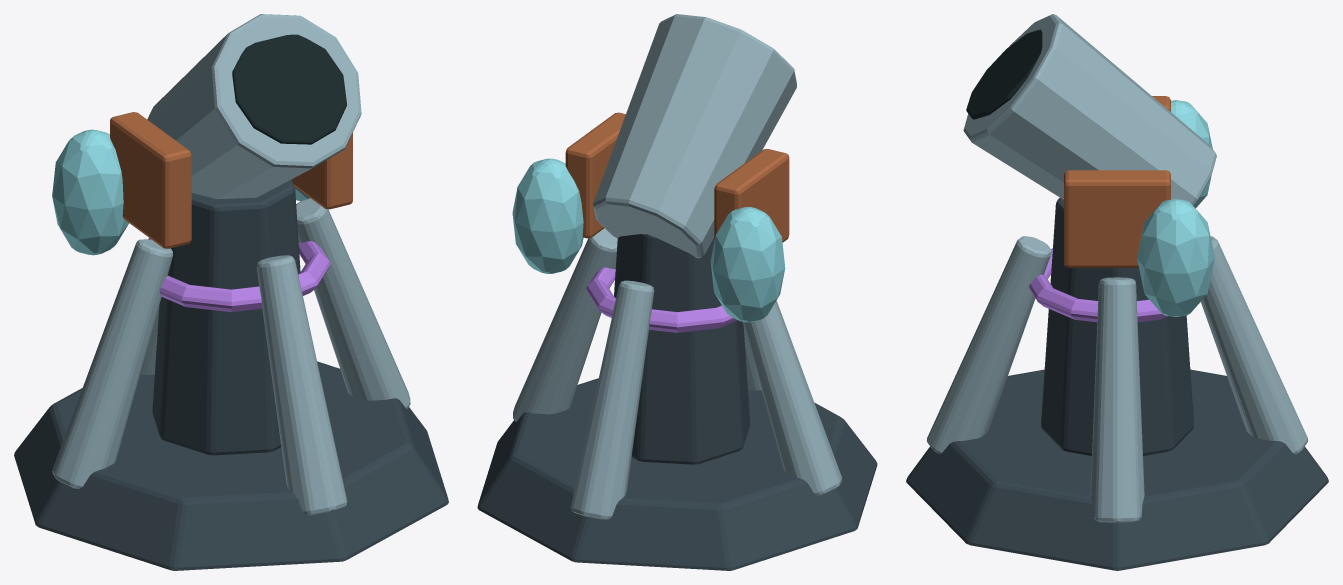
The model's file is frostmortar.glb.
3 views of the same model, side by side, from view 1: azimuth 30°, elevation 25°; view 2: azimuth 150°, elevation 25°; view 3: azimuth 270°, elevation 25° (orthographic). The views are drawn at different scales.
Parts seen in each view (by area): view 1: OctagonalPlinth.001, Buttress.001, MortarBarrel, Trunnion, DarkBore, FrostReservoir, AetherBelt; view 2: OctagonalPlinth.001, MortarBarrel, Buttress.001, FrostReservoir, Trunnion, AetherBelt; view 3: OctagonalPlinth.001, Buttress.001, MortarBarrel, Trunnion, FrostReservoir, DarkBore, AetherBelt.
Boxes of the visible parts, x1,y1,x2,y2 form: OctagonalPlinth.001: [14, 179, 448, 570]; Buttress.001: [52, 198, 410, 515]; MortarBarrel: [147, 14, 361, 199]; Trunnion: [110, 112, 352, 248]; DarkBore: [232, 34, 346, 144]; FrostReservoir: [52, 129, 310, 255]; AetherBelt: [148, 238, 330, 312]; OctagonalPlinth.001: [477, 234, 877, 570]; MortarBarrel: [593, 14, 796, 258]; Buttress.001: [513, 228, 842, 519]; FrostReservoir: [512, 158, 785, 322]; Trunnion: [565, 112, 789, 242]; AetherBelt: [586, 267, 737, 332]; OctagonalPlinth.001: [906, 198, 1328, 570]; Buttress.001: [926, 236, 1308, 522]; MortarBarrel: [963, 14, 1216, 205]; Trunnion: [1064, 96, 1170, 267]; FrostReservoir: [1137, 100, 1214, 316]; DarkBore: [966, 29, 1042, 119]; AetherBelt: [1029, 248, 1168, 322].
Bounding box in the file's own units: 2.17 × 2.6 × 2.17.
